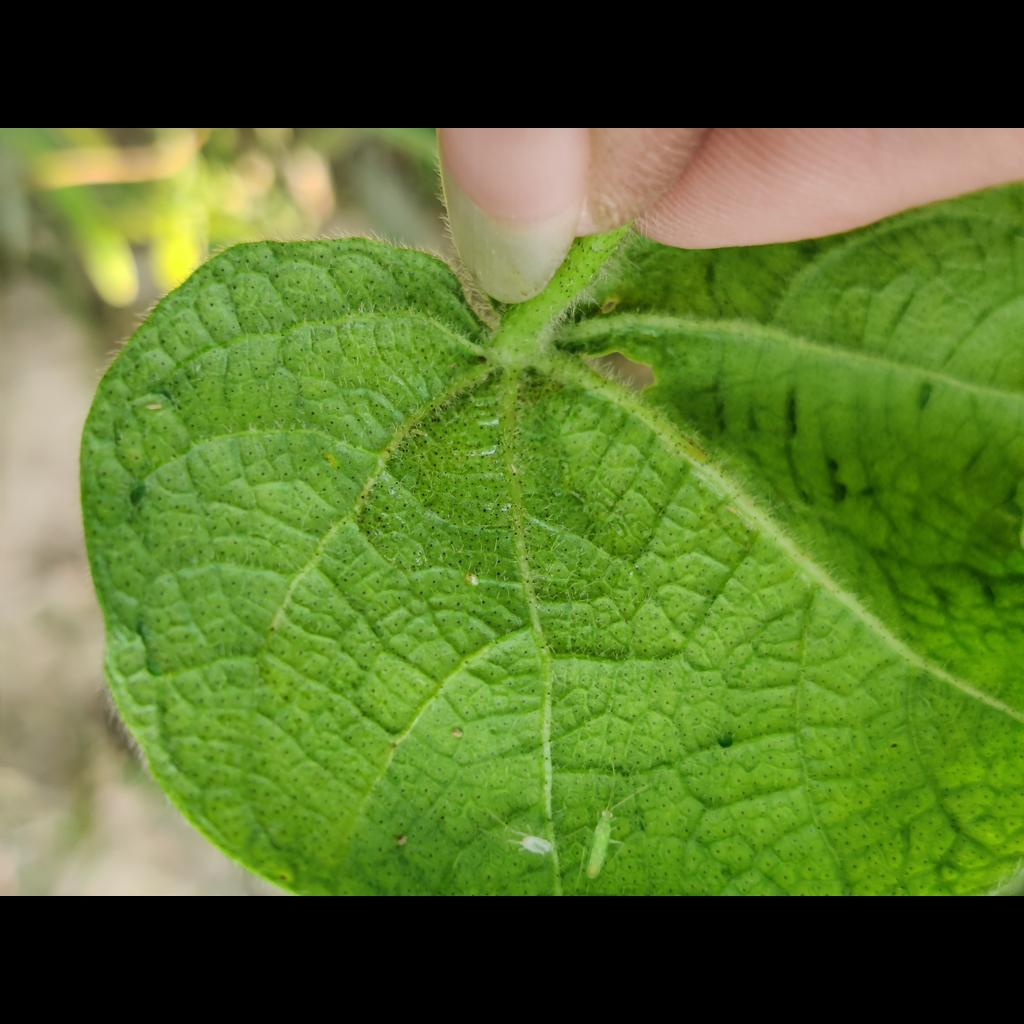adult: (517, 833, 551, 855)
nymph: (466, 573, 480, 585), (145, 402, 163, 411), (396, 834, 408, 846), (452, 728, 462, 739)
